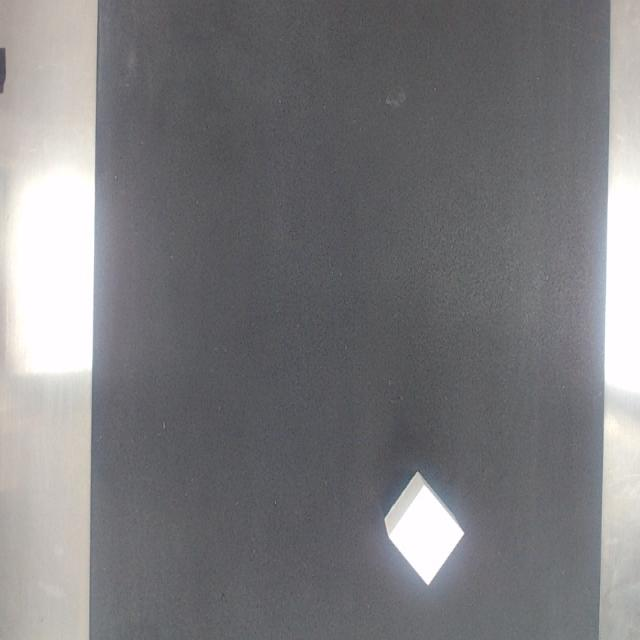Blanco: (383, 473, 466, 587)
